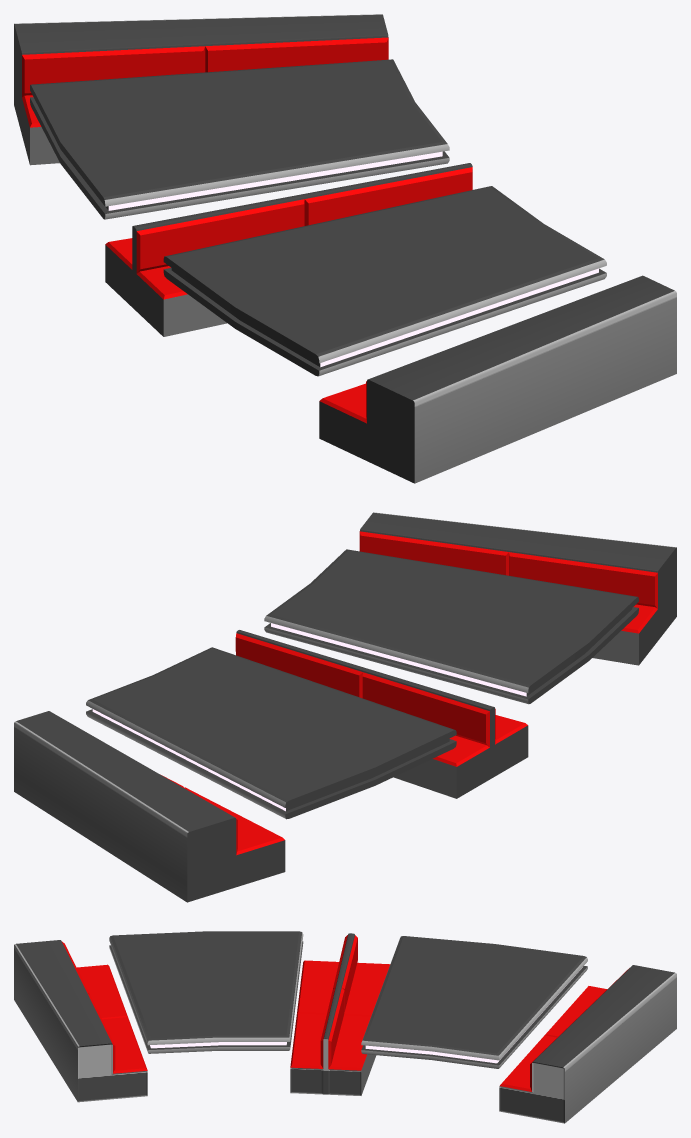
The model's file is BOOTH_SEATING_low.fbx.
3 renders of one model, top to bottom at view 1: azimuth 30°, elevation 25°; view 2: azimuth 150°, elevation 25°; view 3: azimuth 270°, elevation 25°, orthographic. The views are drawn at different scales.
Visible parts, largest first — view 1: Floor002; view 2: Floor002; view 3: Floor002.
Part boxes in pixels (left/top/right/bottom): Floor002: left=14, top=14, right=676, bottom=483; Floor002: left=14, top=512, right=676, bottom=902; Floor002: left=14, top=931, right=676, bottom=1123.
Size of the model in its own units: 412 by 78.87 by 847.
